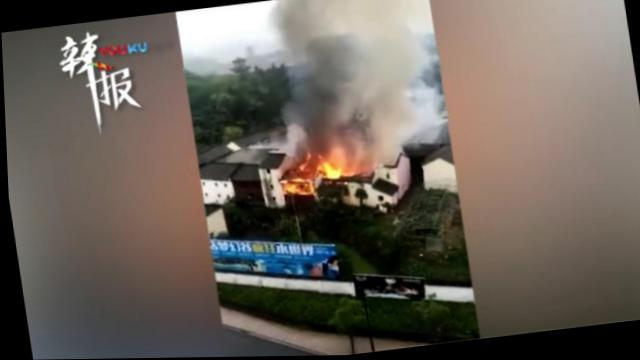fire: (281, 176, 315, 197), (315, 161, 340, 180)
